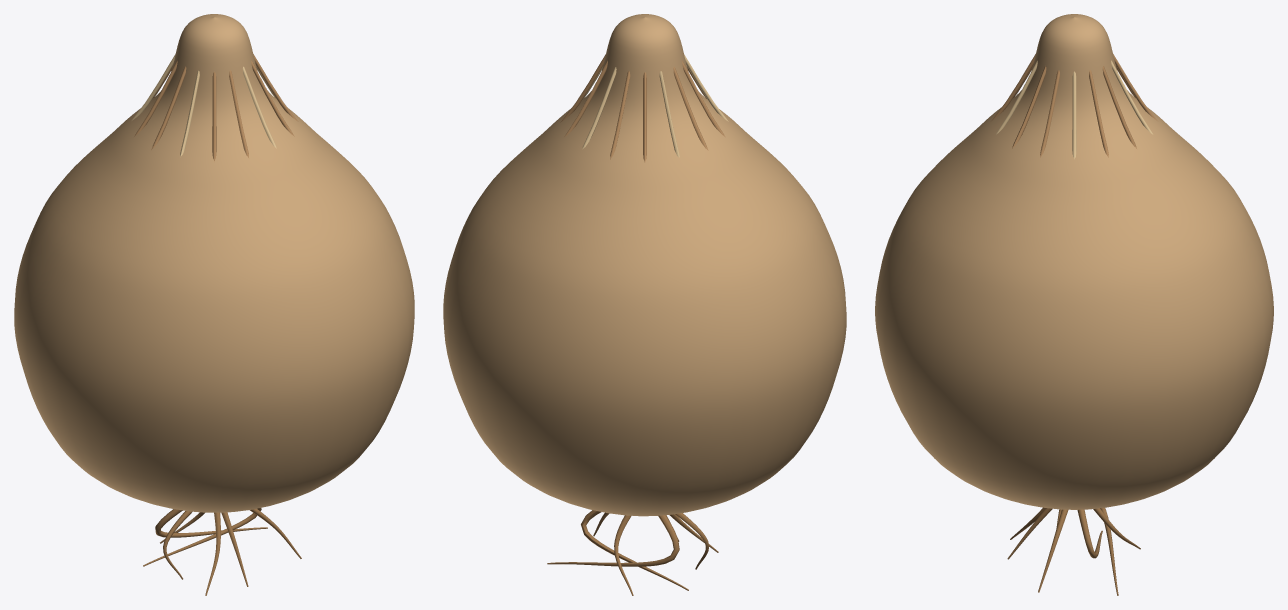
File: props_p6__p6_onion.glb
The picture shows the model from 3 angles, left to right: view 1: azimuth 30°, elevation 25°; view 2: azimuth 150°, elevation 25°; view 3: azimuth 270°, elevation 25°; orthographic projection.
Parts seen in each view (by area): view 1: papery_bulb, root_4; view 2: papery_bulb, root_4, root_2; view 3: papery_bulb.
Boxes of the visible parts, x1,y1,x2,y2 form: papery_bulb: [14, 14, 414, 512]; root_4: [155, 509, 267, 537]; papery_bulb: [443, 14, 846, 516]; root_4: [547, 515, 679, 566]; root_2: [581, 510, 688, 590]; papery_bulb: [875, 14, 1273, 509].
Size of the model in its own units: 0.078 by 0.1171 by 0.078.
